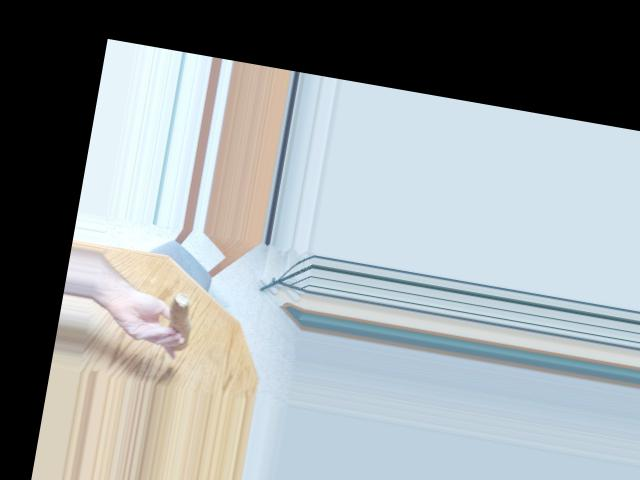sweet_potato: (161, 300, 195, 349)
